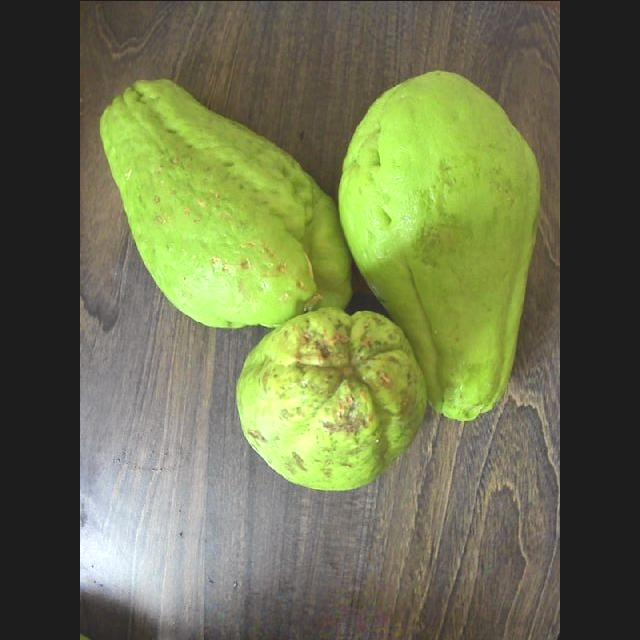chayote: (339, 70, 539, 419), (100, 79, 351, 327), (236, 307, 426, 489)
